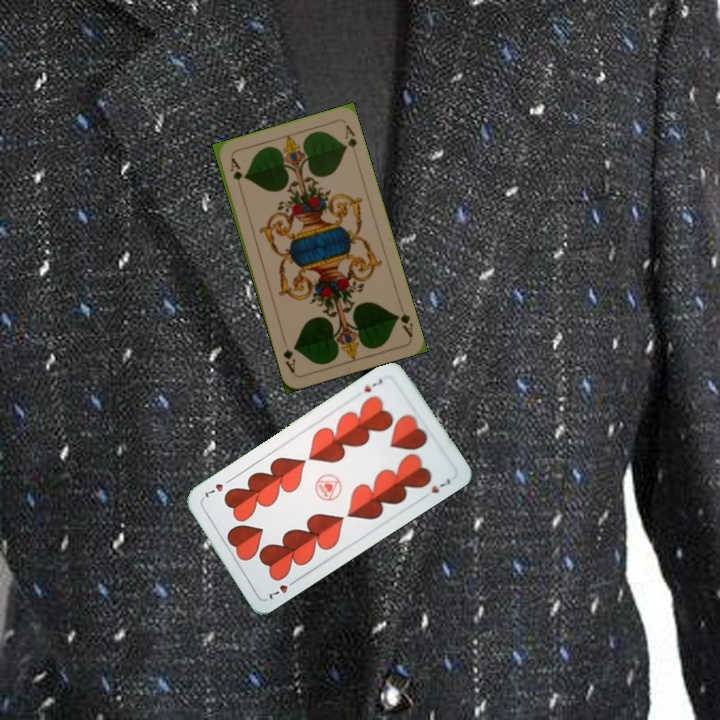GA: (392, 308, 415, 340), (226, 154, 245, 183)
H7: (263, 575, 300, 602), (360, 374, 385, 395)
